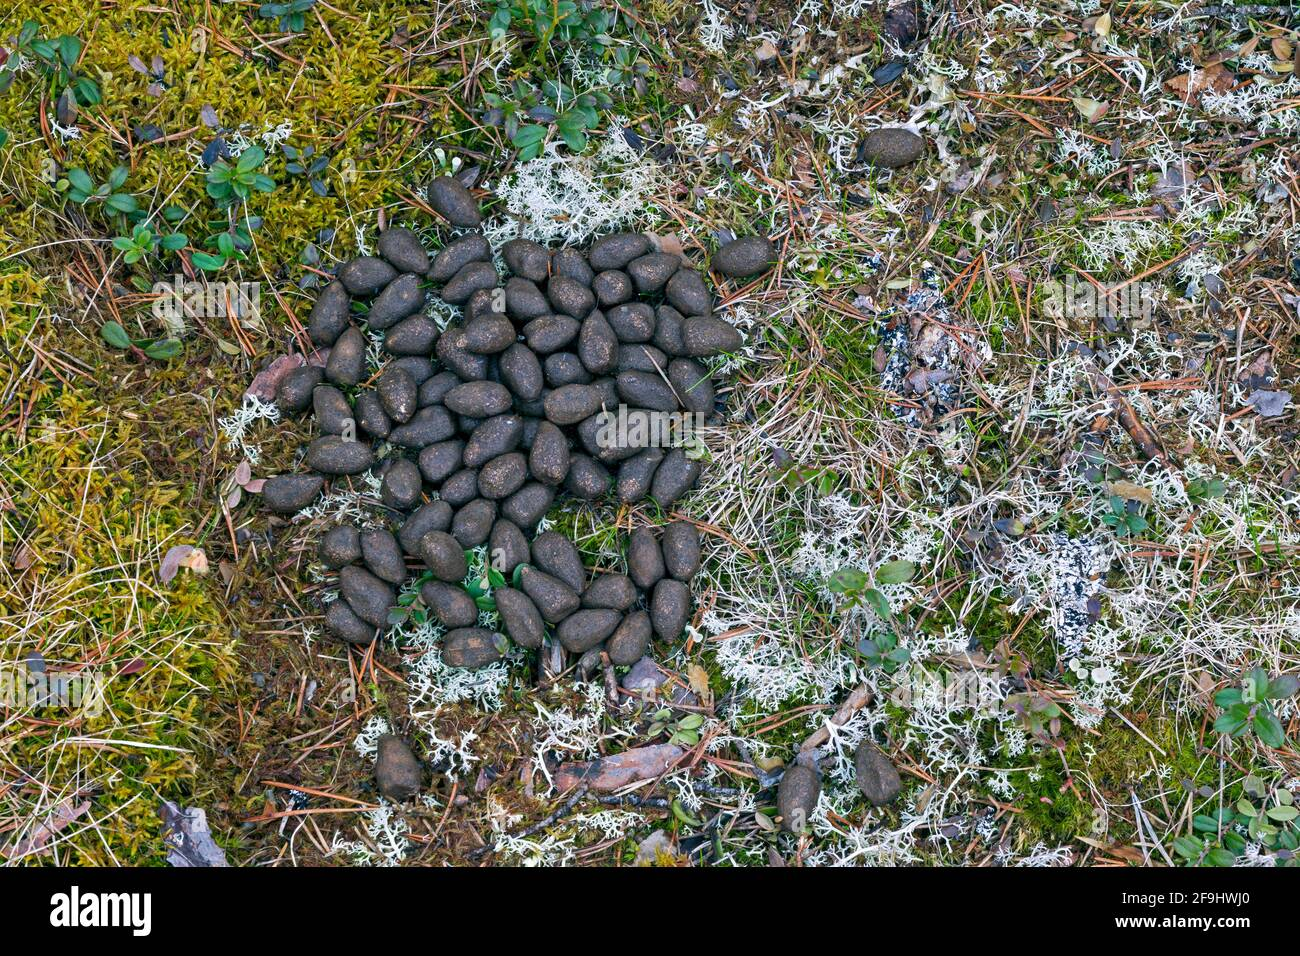Elk: (298, 196, 710, 674)
